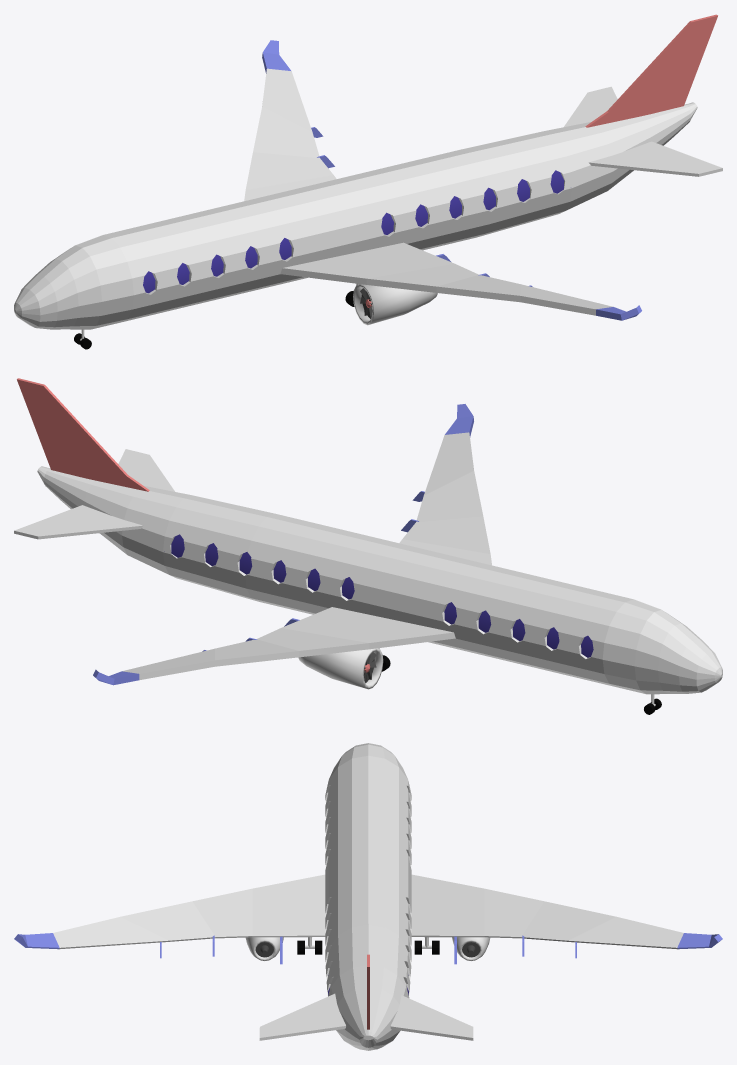
Rendered from airplane.fbx.
3 views of the same model, one above another, from view 1: azimuth 30°, elevation 25°; view 2: azimuth 150°, elevation 25°; view 3: azimuth 270°, elevation 25° (orthographic). The views are drawn at different scales.
Parts seen in each view (by area): view 1: Cylinder.001, Cube.007, Plane.006, Cylinder.002, Plane.007, Cube.008, Plane.008; view 2: Cylinder.001, Cube.007, Plane.006, Cylinder.002, Plane.008, Cube.008, Plane.007; view 3: Cylinder.001, Cube.007, Plane.007, Plane.008, Cube.008, Cube.010.
Part boxes in pixels (box(x1,y1,x2,y2)): Cylinder.001: box(14, 102, 697, 329); Cube.007: box(244, 40, 641, 320); Plane.006: box(585, 14, 717, 127); Cylinder.002: box(143, 170, 564, 293); Plane.007: box(588, 141, 722, 176); Cube.008: box(353, 284, 437, 325); Plane.008: box(564, 86, 617, 126); Cylinder.001: box(37, 466, 722, 694); Cube.007: box(93, 404, 491, 685); Plane.006: box(17, 378, 149, 491); Cylinder.002: box(164, 534, 593, 657); Plane.008: box(14, 505, 142, 539); Cube.008: box(298, 648, 383, 689); Plane.007: box(118, 449, 174, 491); Cylinder.001: box(325, 743, 411, 1050); Cube.007: box(14, 874, 722, 949); Plane.007: box(259, 993, 345, 1040); Plane.008: box(390, 995, 473, 1040); Cube.008: box(245, 937, 490, 960); Cube.010: box(297, 937, 439, 954).
Size of the model in its own units: 398 by 95.78 by 363.
